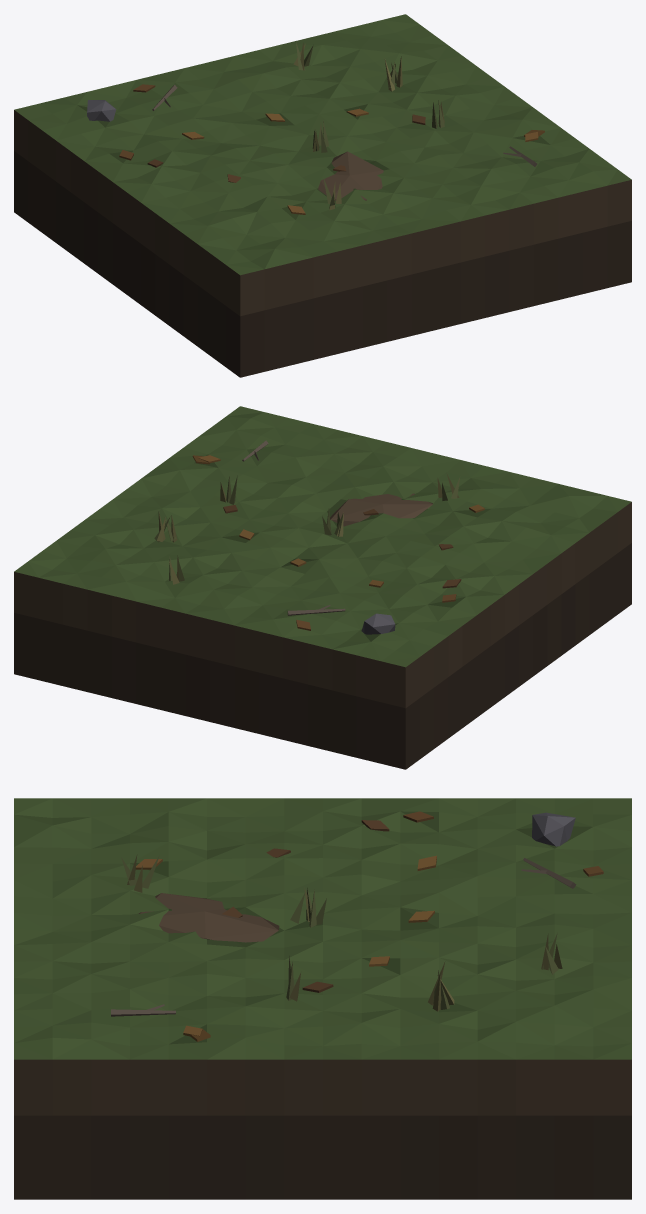
Rendered from haunt_grass_1.glb.
3 renders of one model, top to bottom at view 1: azimuth 30°, elevation 25°; view 2: azimuth 150°, elevation 25°; view 3: azimuth 270°, elevation 25°, orthographic. The views are drawn at different scales.
Parts seen in each view (by area): view 1: HauntGrass1; view 2: HauntGrass1; view 3: HauntGrass1.
Part boxes in pixels (x1,y1,x2,y2): HauntGrass1: (14, 14, 631, 377); HauntGrass1: (14, 406, 631, 769); HauntGrass1: (14, 798, 631, 1199).
Bounding box in the file's own units: 2 × 0.6408 × 2.
